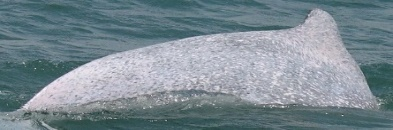fin: (18, 5, 387, 121)
